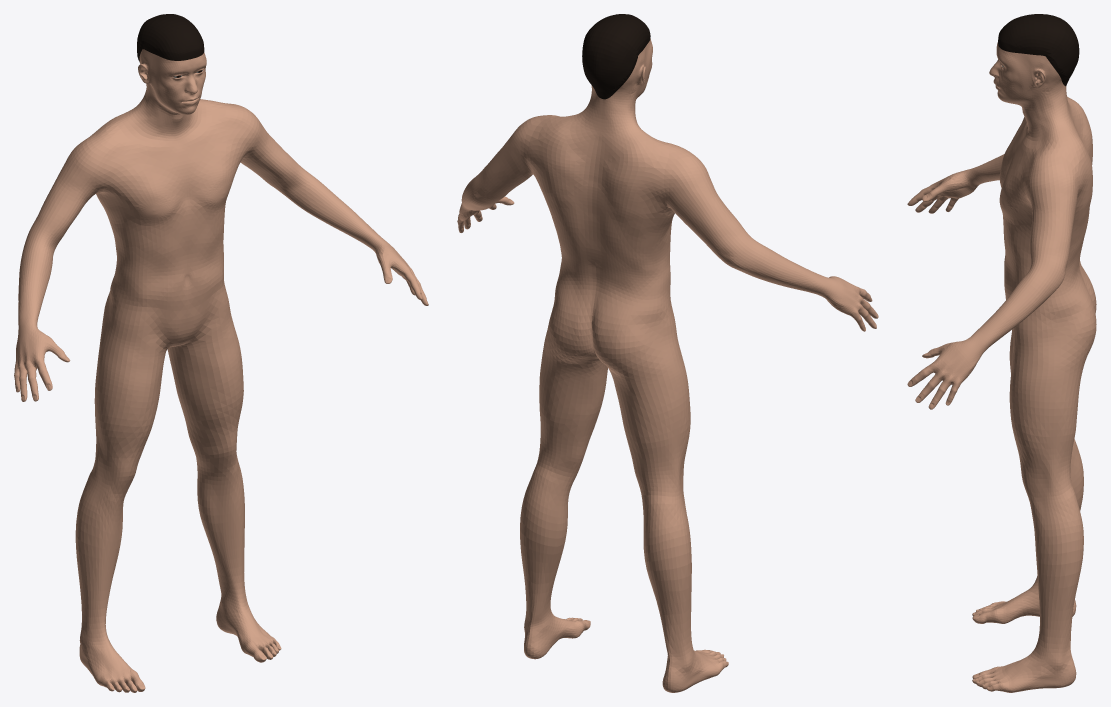
The model's file is man.obj.
The picture shows the model from 3 angles, left to right: view 1: azimuth 30°, elevation 25°; view 2: azimuth 150°, elevation 25°; view 3: azimuth 270°, elevation 25°; orthographic projection.
Parts seen in each view (by area): view 1: body, hair; view 2: body, hair; view 3: body, hair.
Part boxes in pixels (left/top/right/bottom): body: left=14, top=49, right=428, bottom=692; hair: left=137, top=14, right=204, bottom=62; body: left=457, top=38, right=878, bottom=692; hair: left=582, top=14, right=650, bottom=99; body: left=907, top=42, right=1096, bottom=692; hair: left=998, top=14, right=1079, bottom=86.
Size of the model in its own units: 11.63 by 17.46 by 4.71.
Materials: 3 (1 with a texture image).
